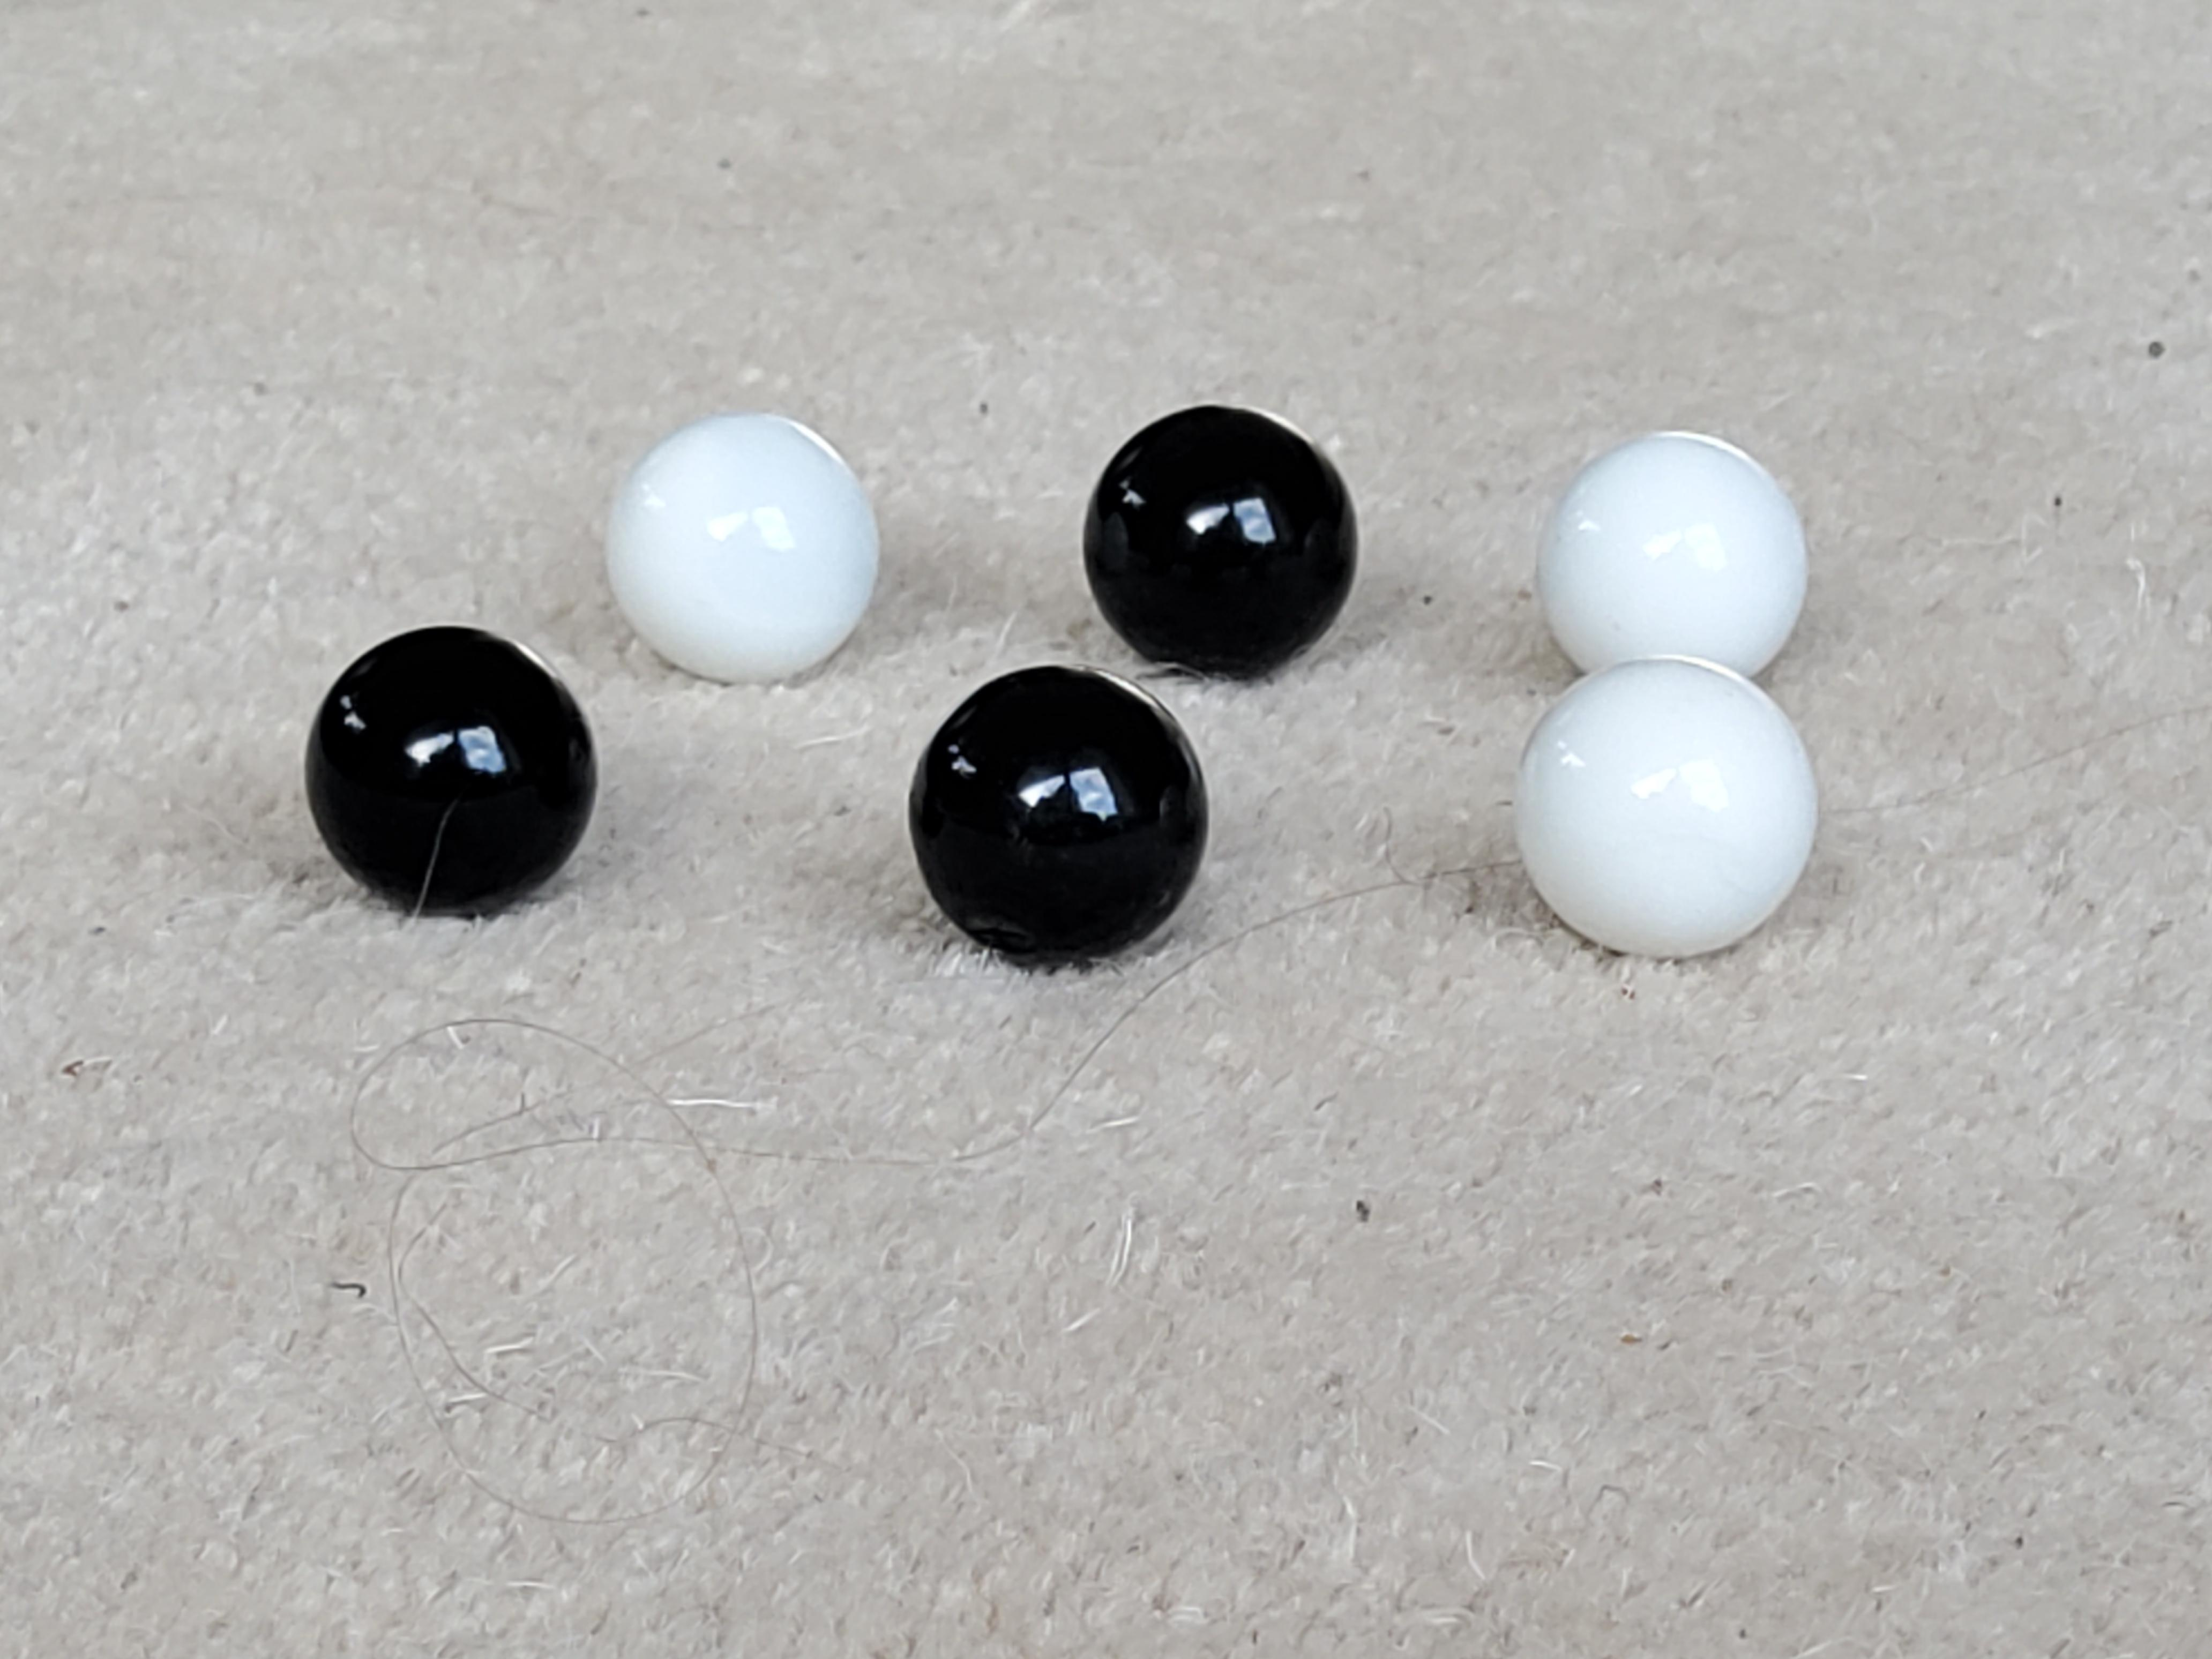pentago: (911, 653, 1224, 962), (1512, 673, 1808, 953), (303, 619, 601, 887), (597, 410, 885, 683), (1080, 429, 1359, 683), (1524, 423, 1806, 640)
